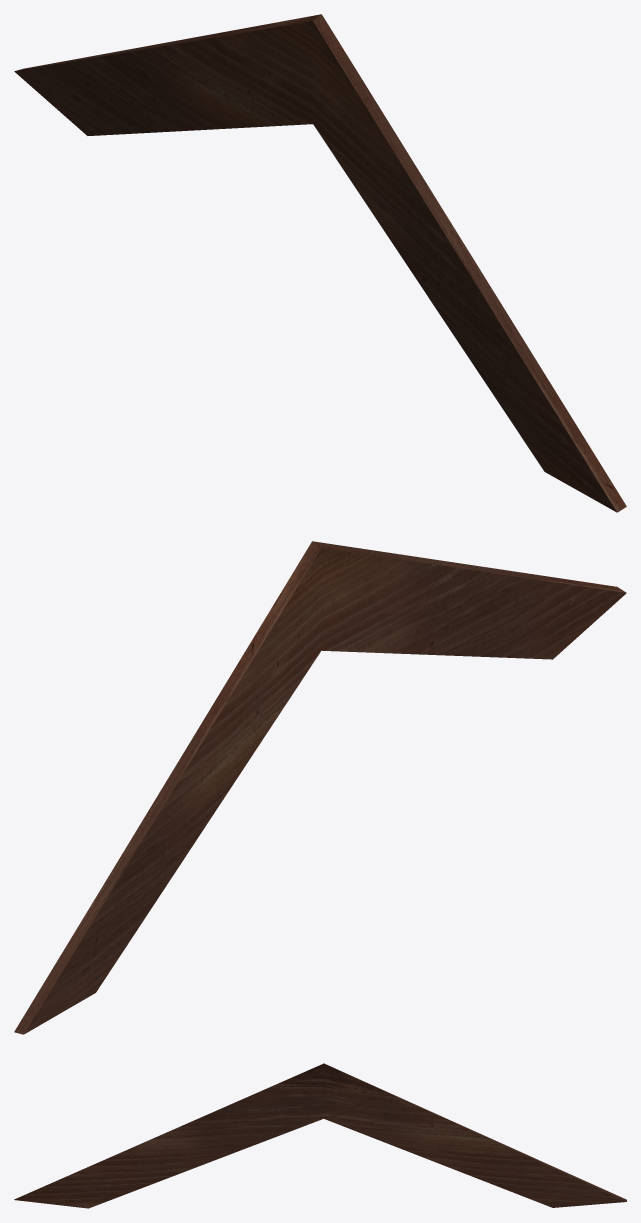
The model's file is SM_R_MiddleBeam_26.fbx.
The picture shows the model from 3 angles, top to bottom: view 1: azimuth 30°, elevation 25°; view 2: azimuth 150°, elevation 25°; view 3: azimuth 270°, elevation 25°; orthographic projection. The views are drawn at different scales.
Parts seen in each view (by area): view 1: SM_R_MiddleBeam_26; view 2: SM_R_MiddleBeam_26; view 3: SM_R_MiddleBeam_26.
Boxes of the visible parts, x1,y1,x2,y2 form: SM_R_MiddleBeam_26: (14,14,626,512); SM_R_MiddleBeam_26: (14,541,626,1034); SM_R_MiddleBeam_26: (14,1063,626,1208).
Size of the model in its own units: 5.59 by 605 by 158.
Materials: 1 (1 with a texture image).
